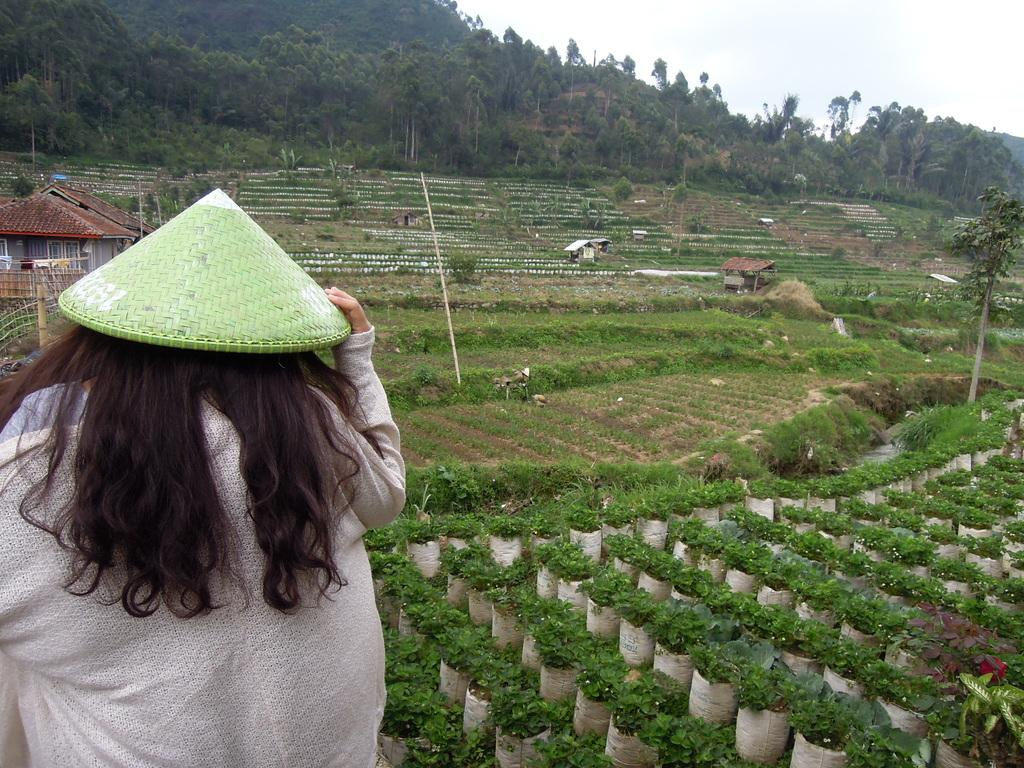Hat: (55, 186, 351, 356)
